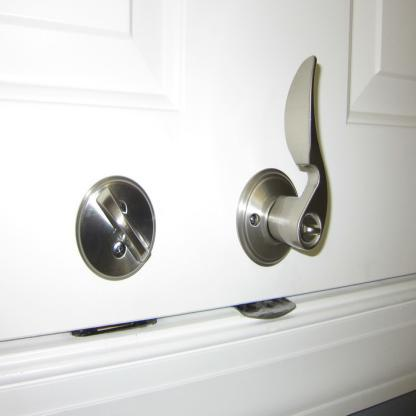door: (0, 0, 415, 345)
lever: (282, 52, 342, 258)
